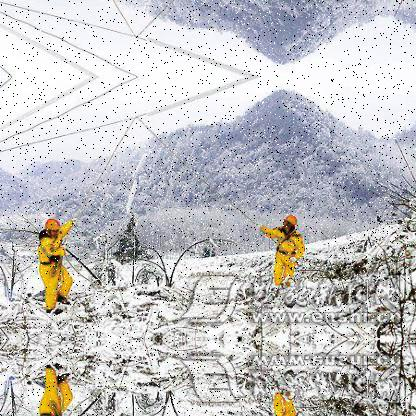Helmet: (40, 217, 64, 241), (283, 214, 304, 235)
